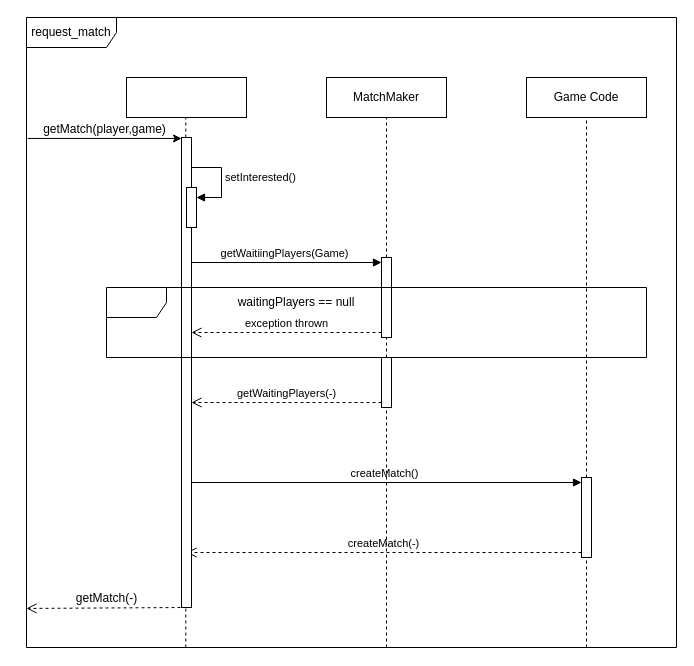
Image size: 694x666. Some labels were removed from this diagram. The shapes that lost their labels are listed below. From the top down, each one's box as (x1, y1, x2, y2) in pixels, then its label:
(126, 76, 246, 118): Server
(106, 286, 646, 358): break
